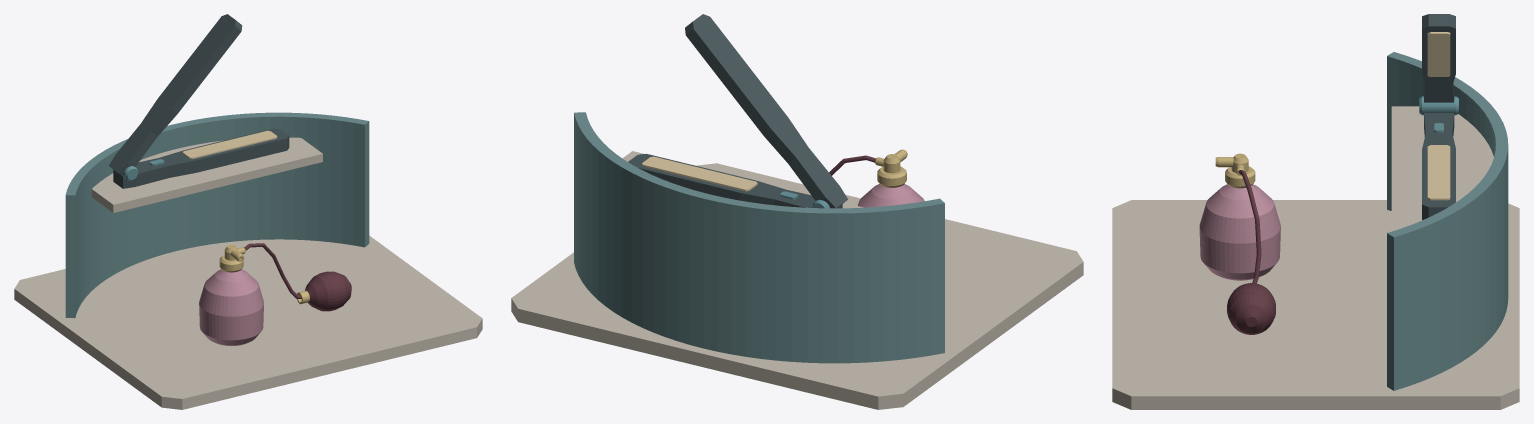
3 views of the same model, side by side, from view 1: azimuth 30°, elevation 25°; view 2: azimuth 150°, elevation 25°; view 3: azimuth 270°, elevation 25° (orthographic). The views are drawn at different scales.
Visible parts, largest first — view 1: SCENE_ONLY__FullLowDeckCurvedBackScreenAndUpperShelf, straightener__WholeRaisedUpperLongArmCasing, atomizer__WholeRoundShoulderedFlatBottomBottleAndNeck, straightener__WholeGroundedLowerLongArmCasing, atomizer__WholePearBulbWithFullNarrowNeck, straightener__WholeLowerInsetFlatPlate; view 2: SCENE_ONLY__FullLowDeckCurvedBackScreenAndUpperShelf, straightener__WholeRaisedUpperLongArmCasing, straightener__WholeGroundedLowerLongArmCasing, straightener__WholeLowerInsetFlatPlate, atomizer__WholeRoundShoulderedFlatBottomBottleAndNeck; view 3: SCENE_ONLY__FullLowDeckCurvedBackScreenAndUpperShelf, atomizer__WholeRoundShoulderedFlatBottomBottleAndNeck, atomizer__WholePearBulbWithFullNarrowNeck, straightener__WholeGroundedLowerLongArmCasing, straightener__WholeRaisedUpperLongArmCasing, straightener__WholeLowerInsetFlatPlate, straightener__WholeUpperInsetFlatPlate, atomizer__WholeContinuousCurvedBulbLinkHose, straightener__WholeTransverseRearHingePin, atomizer__WholeSeatedNeckCollar.
Boxes of the visible parts, left/top/right/bottom form: SCENE_ONLY__FullLowDeckCurvedBackScreenAndUpperShelf: left=14, top=112, right=482, bottom=409; straightener__WholeRaisedUpperLongArmCasing: left=109, top=14, right=242, bottom=176; atomizer__WholeRoundShoulderedFlatBottomBottleAndNeck: left=199, top=269, right=263, bottom=346; straightener__WholeGroundedLowerLongArmCasing: left=113, top=128, right=289, bottom=188; atomizer__WholePearBulbWithFullNarrowNeck: left=305, top=271, right=351, bottom=311; straightener__WholeLowerInsetFlatPlate: left=183, top=130, right=277, bottom=159; SCENE_ONLY__FullLowDeckCurvedBackScreenAndUpperShelf: left=511, top=112, right=1083, bottom=409; straightener__WholeRaisedUpperLongArmCasing: left=685, top=14, right=847, bottom=208; straightener__WholeGroundedLowerLongArmCasing: left=628, top=153, right=842, bottom=208; straightener__WholeLowerInsetFlatPlate: left=642, top=156, right=757, bottom=191; atomizer__WholeRoundShoulderedFlatBottomBottleAndNeck: left=858, top=184, right=924, bottom=207; SCENE_ONLY__FullLowDeckCurvedBackScreenAndUpperShelf: left=1112, top=52, right=1519, bottom=409; atomizer__WholeRoundShoulderedFlatBottomBottleAndNeck: left=1199, top=184, right=1280, bottom=280; atomizer__WholePearBulbWithFullNarrowNeck: left=1227, top=283, right=1275, bottom=334; straightener__WholeGroundedLowerLongArmCasing: left=1422, top=113, right=1455, bottom=219; straightener__WholeRaisedUpperLongArmCasing: left=1422, top=14, right=1455, bottom=102; straightener__WholeLowerInsetFlatPlate: left=1427, top=145, right=1450, bottom=200; straightener__WholeUpperInsetFlatPlate: left=1427, top=32, right=1450, bottom=76; atomizer__WholeContinuousCurvedBulbLinkHose: left=1238, top=170, right=1261, bottom=283; straightener__WholeTransverseRearHingePin: left=1419, top=96, right=1458, bottom=115; atomizer__WholeSeatedNeckCollar: left=1225, top=166, right=1255, bottom=188.
Bounding box in the file's own units: 0.49 × 0.3701 × 0.43.
